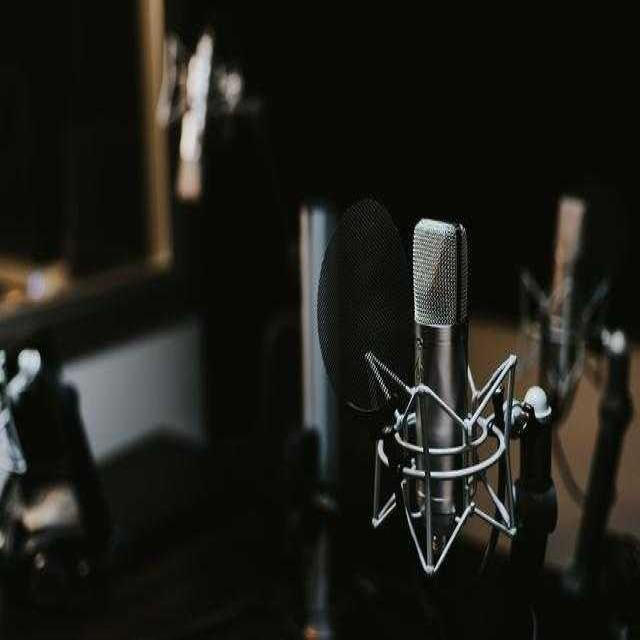microphone: (411, 212, 488, 524)
